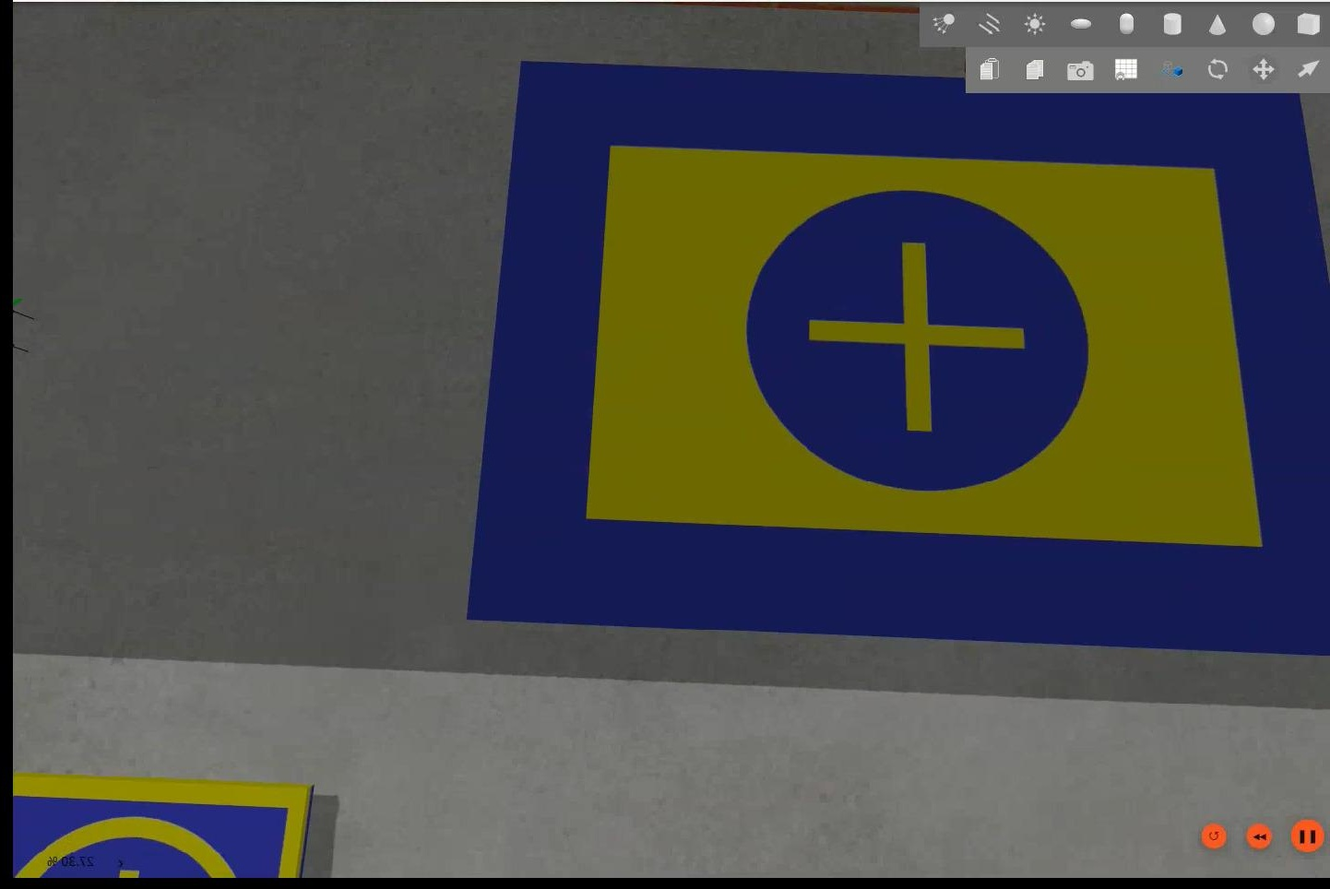large_base: (461, 62, 1328, 657)
small_base: (10, 776, 314, 880)
